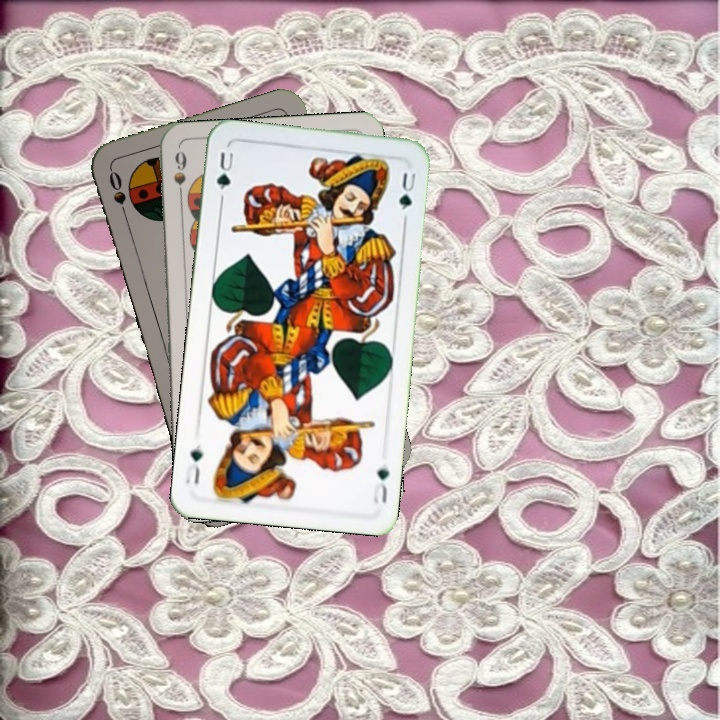GU: (212, 147, 237, 193), (369, 464, 392, 506)
S9: (169, 147, 189, 206)
SO: (105, 166, 131, 224)
